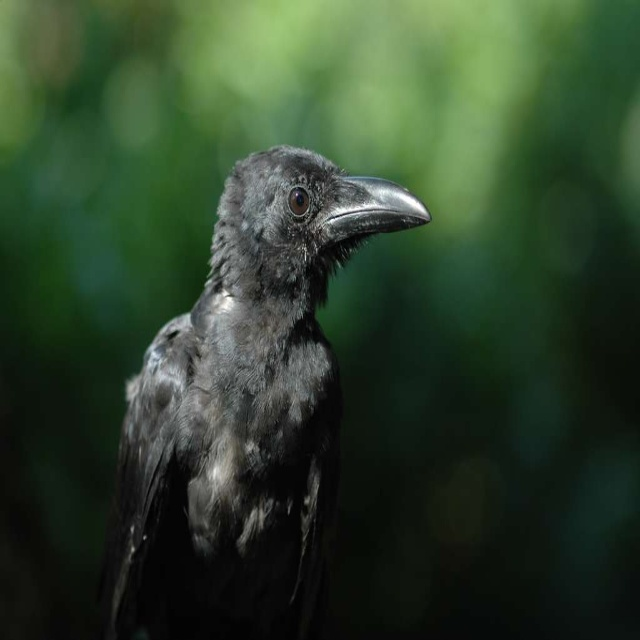Raven: (86, 144, 432, 640)
